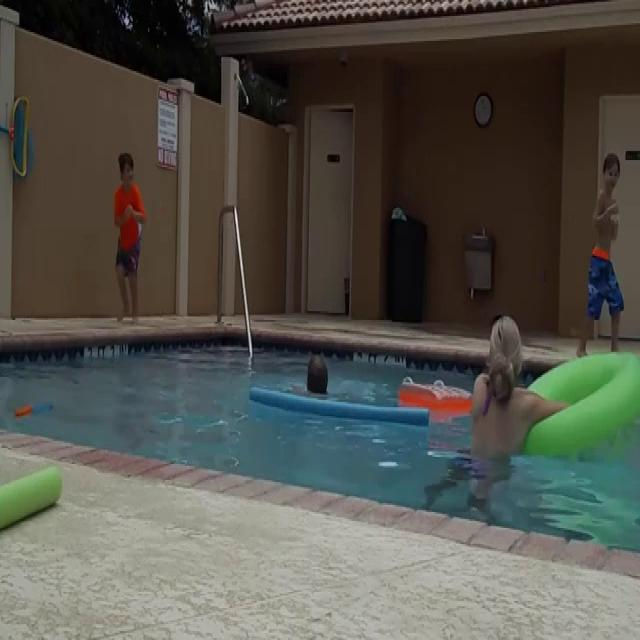adult: (474, 317, 568, 528)
child: (578, 155, 630, 359), (114, 146, 148, 323)
